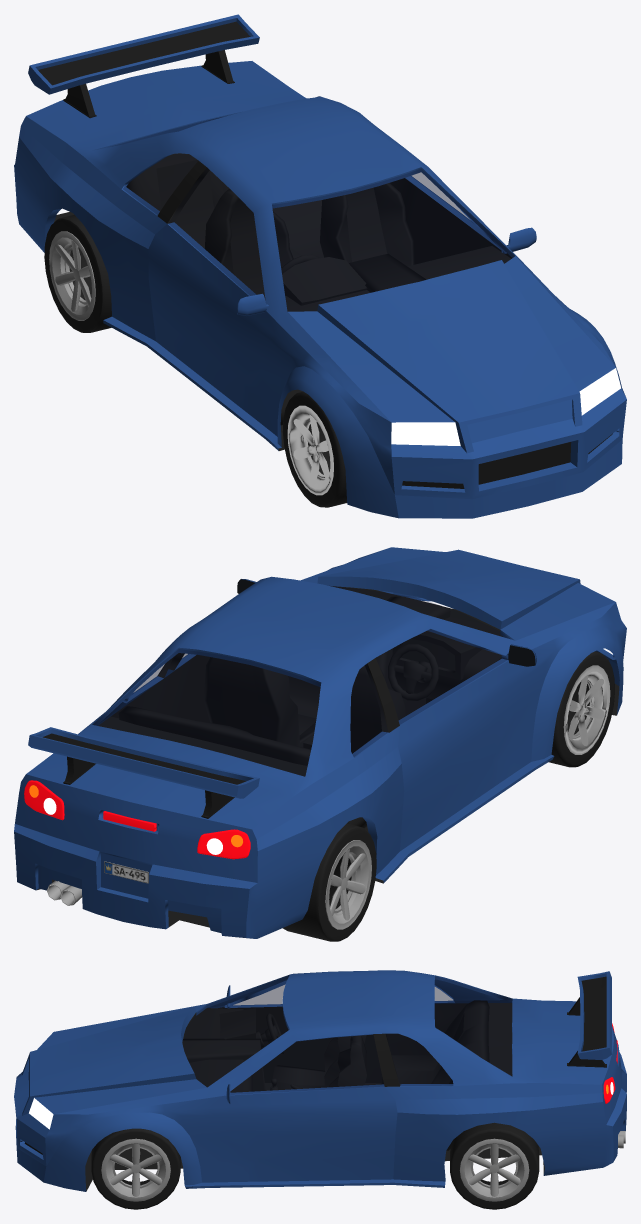
Rendered from sports-car.glb.
3 renders of one model, top to bottom at view 1: azimuth 30°, elevation 25°; view 2: azimuth 150°, elevation 25°; view 3: azimuth 270°, elevation 25°, orthographic. The views are drawn at different scales.
Parts seen in each view (by area): view 1: JDM_Body, JDM_Interior, wheel_rr, wheel_fr; view 2: JDM_Body, JDM_Interior, wheel_fr, wheel_rr, Plate; view 3: JDM_Body, JDM_Interior, wheel_rl, wheel_fl, wheel_fr.
Part boxes in pixels (x1,y1,x2,y2): JDM_Body: (14, 14, 626, 518); JDM_Interior: (126, 153, 512, 425); wheel_rr: (44, 214, 111, 332); wheel_fr: (281, 254, 346, 507); JDM_Body: (14, 547, 626, 938); JDM_Interior: (98, 586, 502, 831); wheel_fr: (388, 644, 614, 767); wheel_rr: (283, 823, 376, 941); Plate: (104, 861, 148, 883); JDM_Body: (14, 970, 626, 1191); JDM_Interior: (182, 1000, 512, 1150); wheel_rl: (450, 1122, 539, 1209); wheel_fl: (91, 1128, 180, 1209); wheel_fr: (260, 1013, 284, 1054).
Size of the model in its own units: 2.06 by 1.45 by 4.87.
11 materials, 1 textured.
